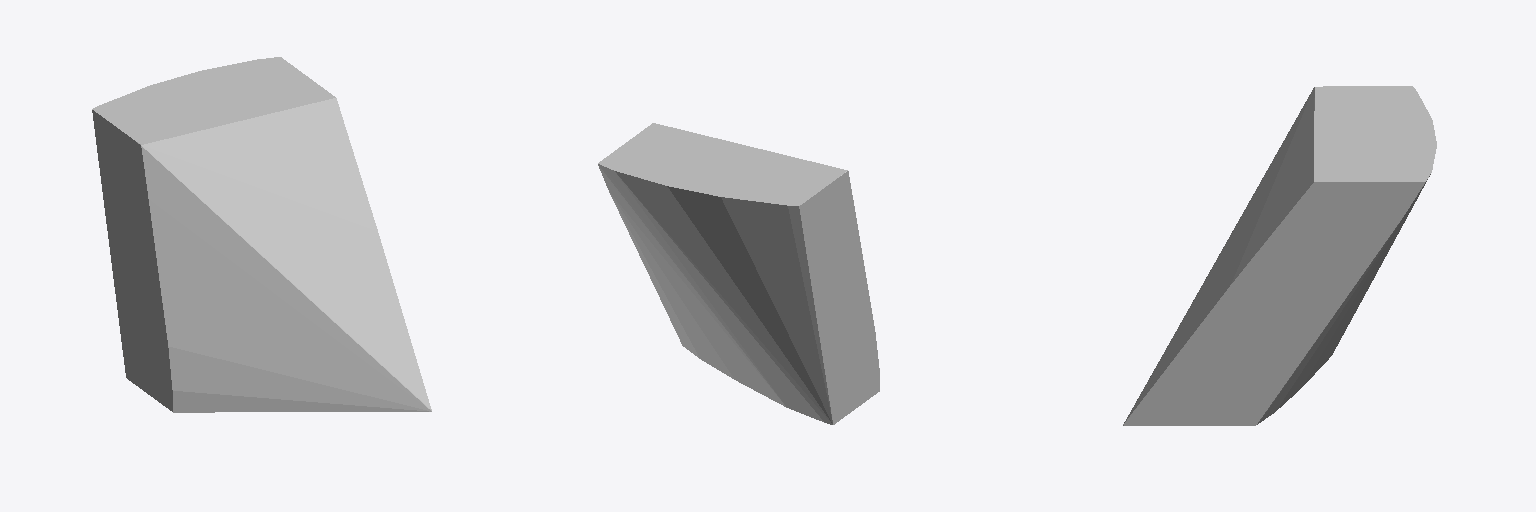
File: phantom-elastrat_collision_625.obj
The picture shows the model from 3 angles: view 1: azimuth 30°, elevation 25°; view 2: azimuth 150°, elevation 25°; view 3: azimuth 270°, elevation 25°; orthographic projection.
Size of the model in its own units: 0.0041 by 0.0049 by 0.0057.